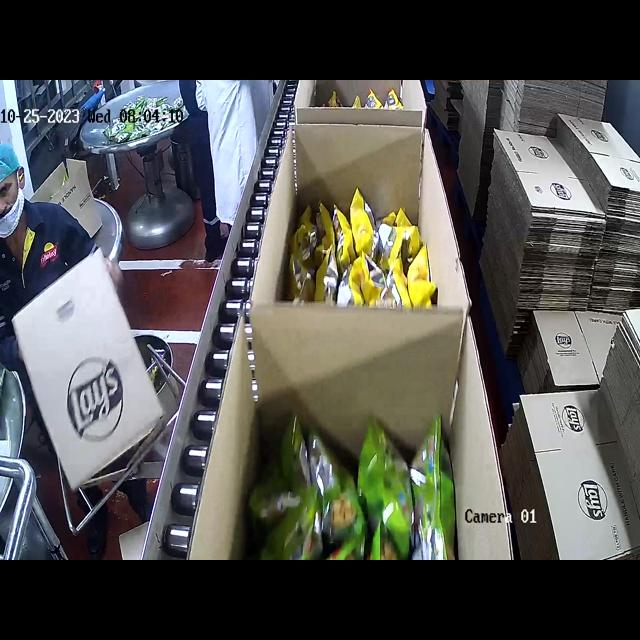salted: (287, 186, 438, 309)
yogurt: (264, 413, 456, 557)
